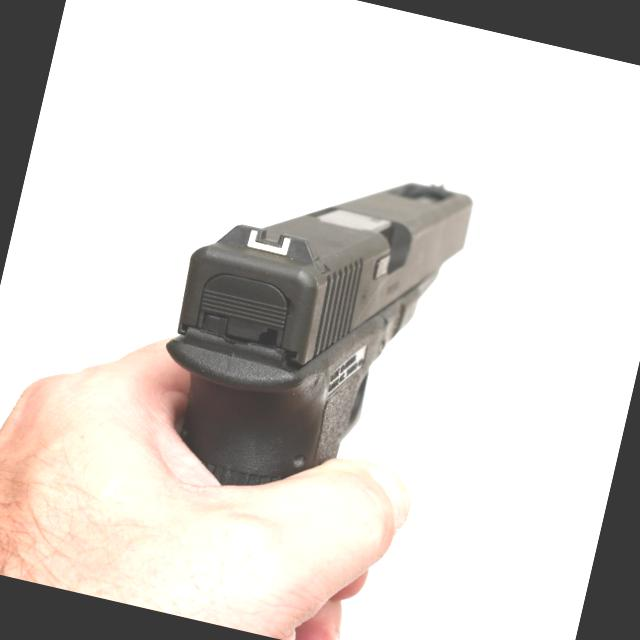handgun: (133, 117, 482, 532)
